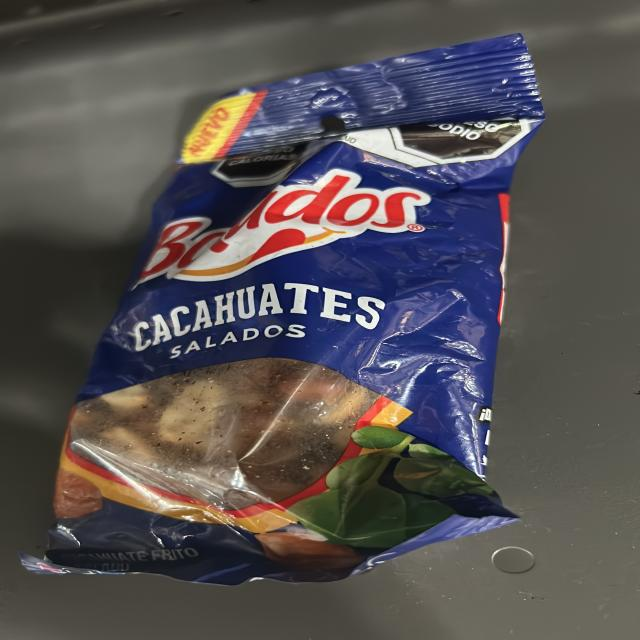bokadosCacahuates: (71, 74, 467, 561)
